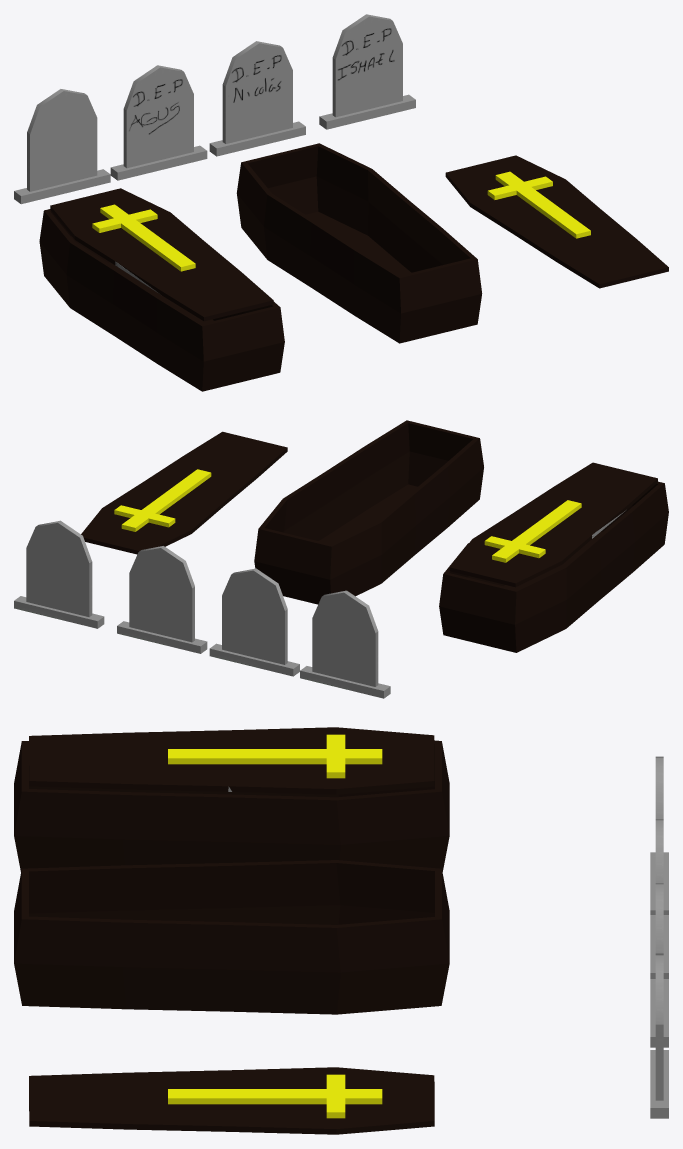
The model's file is LAPIDAS_REJAS_TUBAS.FBX.
3 views of the same model, one above another, from view 1: azimuth 30°, elevation 25°; view 2: azimuth 150°, elevation 25°; view 3: azimuth 270°, elevation 25° (orthographic). The views are drawn at different scales.
Visible parts, largest first — view 1: ATA, ATA_D, TAPA, LAPIDA_A, LAPIDA_I, LAPIDA_N, LAPIDA_GRIS, TAPA_D_Part_6, TAPA_D_Part_2, TAPA_D_Part_7, TAPA_D_Part_5, TAPA_D_Part_4 (+2 smaller); view 2: ATA, ATA_D, TAPA, LAPIDA_GRIS, LAPIDA_I, LAPIDA_A, LAPIDA_N, TAPA_D_Part_6, TAPA_D_Part_2, TAPA_D_Part_7, TAPA_D_Part_5, TAPA_D_Part_4 (+2 smaller); view 3: ATA, ATA_D, TAPA, TAPA_D_Part_6, TAPA_D_Part_2, TAPA_D_Part_7, TAPA_D_Part_4, TAPA_D_Part_5, LAPIDA_I, LAPIDA_N, TAPA_D_Part_3, LAPIDA_A (+2 smaller).
Boxes of the visible parts, <box> form: ATA: <box>236,143,482,343</box>; ATA_D: <box>39,209,284,391</box>; TAPA: <box>445,155,668,288</box>; LAPIDA_A: <box>110,65,207,180</box>; LAPIDA_I: <box>319,14,415,129</box>; LAPIDA_N: <box>209,41,305,156</box>; LAPIDA_GRIS: <box>14,89,110,204</box>; TAPA_D_Part_6: <box>50,188,176,260</box>; TAPA_D_Part_2: <box>108,243,234,266</box>; TAPA_D_Part_7: <box>198,268,273,313</box>; TAPA_D_Part_5: <box>129,260,236,292</box>; TAPA_D_Part_4: <box>109,218,205,256</box>; ATA: <box>254,420,483,604</box>; ATA_D: <box>439,481,668,652</box>; TAPA: <box>81,431,287,554</box>; LAPIDA_GRIS: <box>300,590,390,698</box>; LAPIDA_I: <box>14,520,104,628</box>; LAPIDA_A: <box>209,568,299,676</box>; LAPIDA_N: <box>117,546,207,653</box>; TAPA_D_Part_6: <box>449,532,586,587</box>; TAPA_D_Part_2: <box>515,491,591,542</box>; TAPA_D_Part_7: <box>549,462,626,491</box>; TAPA_D_Part_5: <box>547,489,616,528</box>; TAPA_D_Part_4: <box>480,512,586,543</box>; ATA: <box>14,860,449,1014</box>; ATA_D: <box>14,740,449,871</box>; TAPA: <box>29,1067,434,1134</box>; TAPA_D_Part_6: <box>257,727,434,794</box>; TAPA_D_Part_2: <box>144,729,256,791</box>; TAPA_D_Part_7: <box>29,749,139,789</box>; TAPA_D_Part_4: <box>228,730,318,794</box>; TAPA_D_Part_5: <box>100,735,223,789</box>; LAPIDA_I: <box>650,954,668,1118</box>; LAPIDA_N: <box>650,883,668,1047</box>; TAPA_D_Part_3: <box>29,733,101,756</box>; LAPIDA_A: <box>650,819,668,978</box>.
Bounding box in the file's own units: 108 × 21.12 × 93.3.
Materials: 7 (4 with a texture image).
